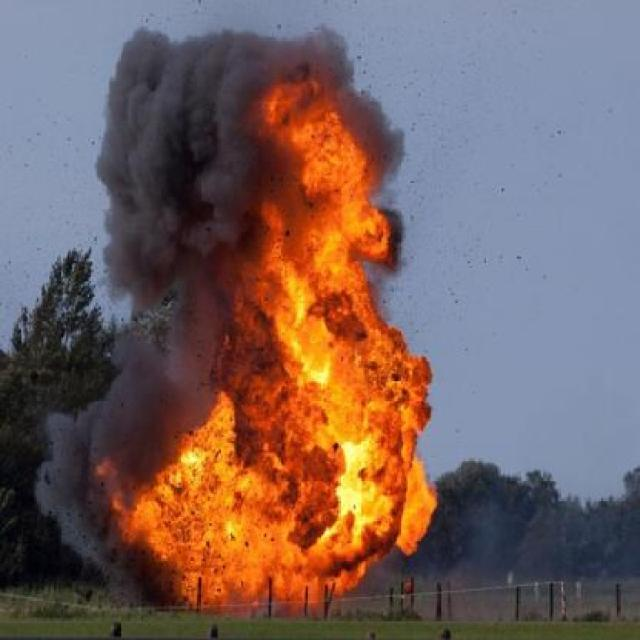Fire: (225, 35, 437, 621), (102, 437, 226, 613)
Smoke: (93, 34, 220, 429), (41, 410, 102, 572)
